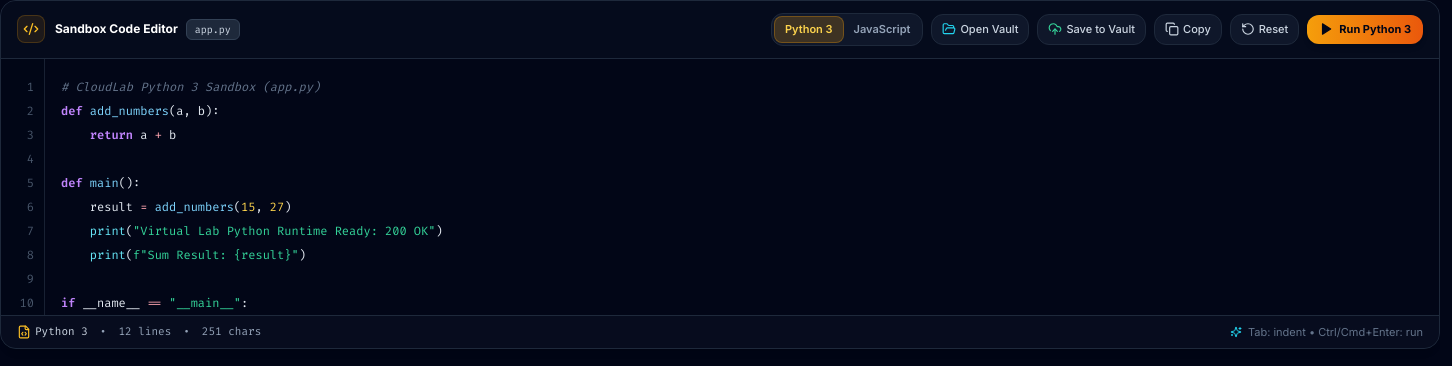
CodeEditor Component › saves current code buffer to Encrypted Vault via StorageService.uploadFile
Replace the text in the text box named "Python 3 code editor" with "print(\"vault-saved\")" at (742, 186), box 45,58 -> 1439,314
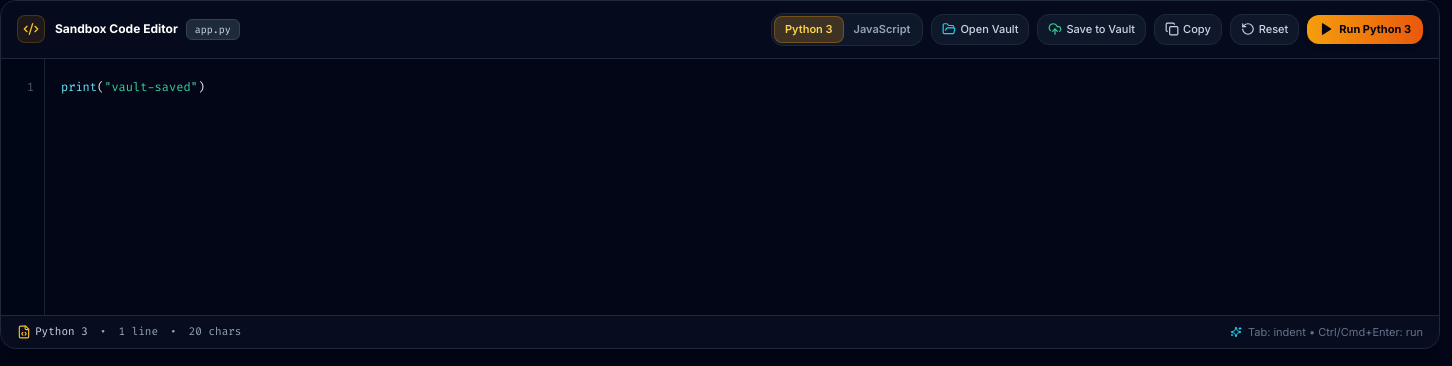
Click the button "Save to Vault".
click(1092, 29)  # box 1037,14 -> 1146,44
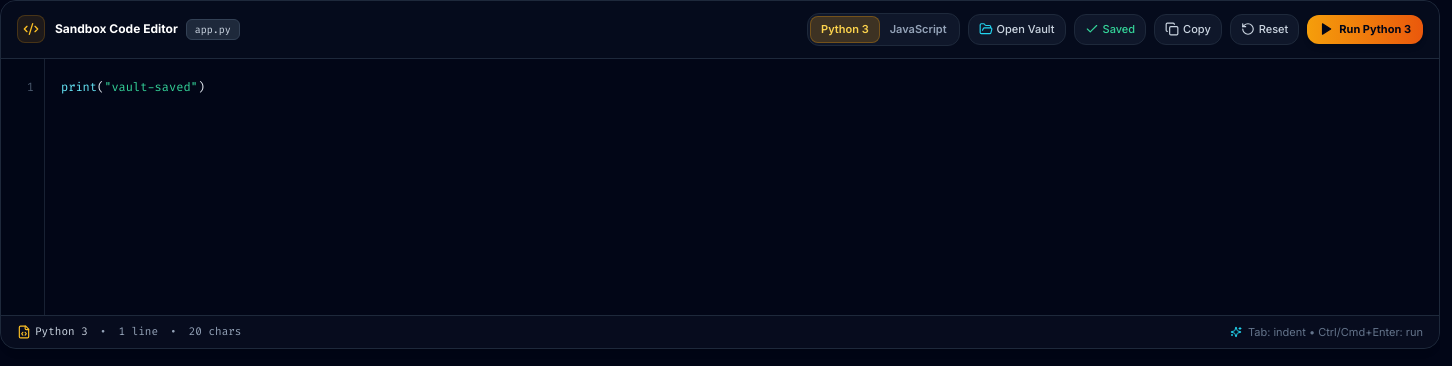
Expected: the text "app.py" is shown, 186,19 -> 240,40
Expected: the text "Saved" is shown, 1102,21 -> 1135,38
